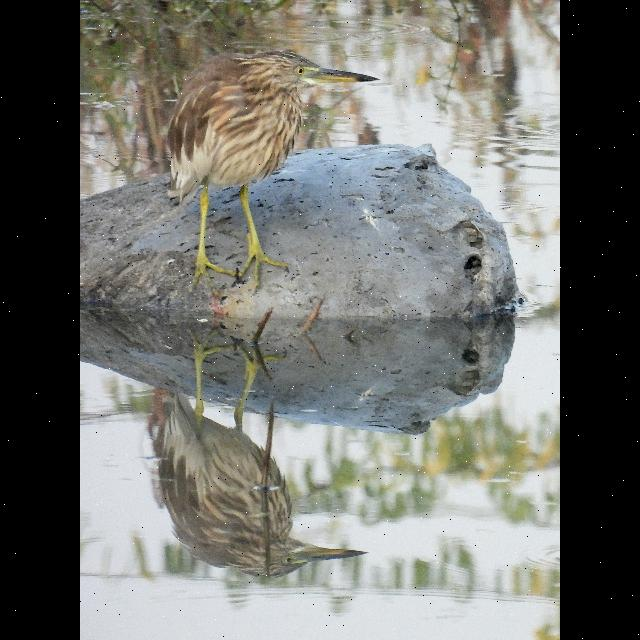heron: (164, 34, 380, 280)
